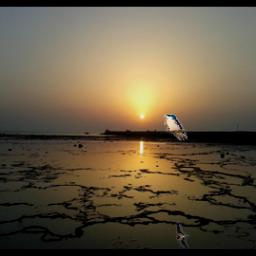Swallow: (164, 114, 189, 140), (176, 221, 193, 247)
